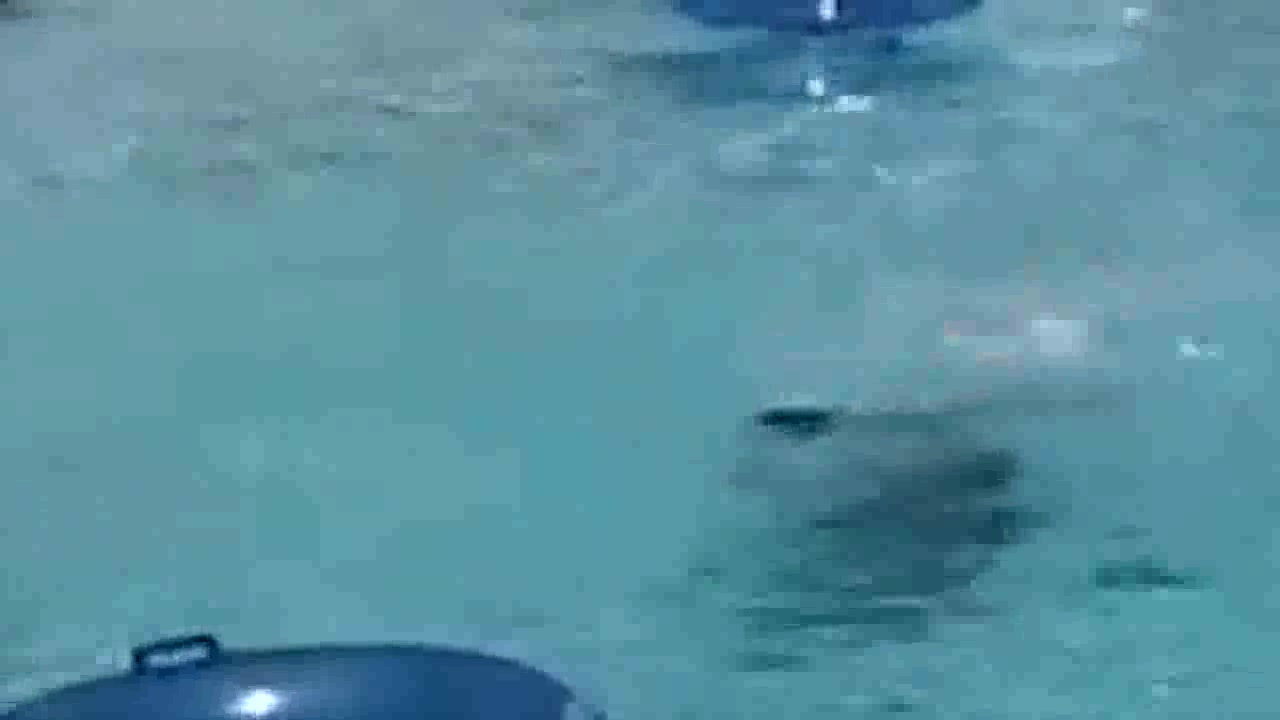Drowning: (742, 344, 1039, 630)
